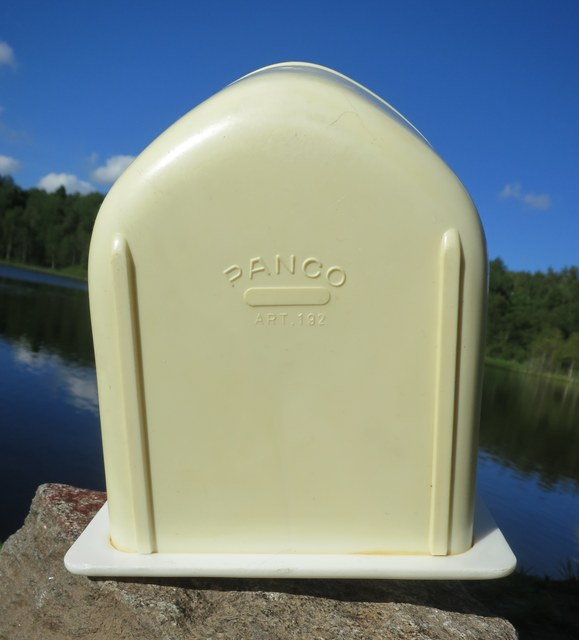Vinod Steel Ladle: (29, 32, 550, 608)
